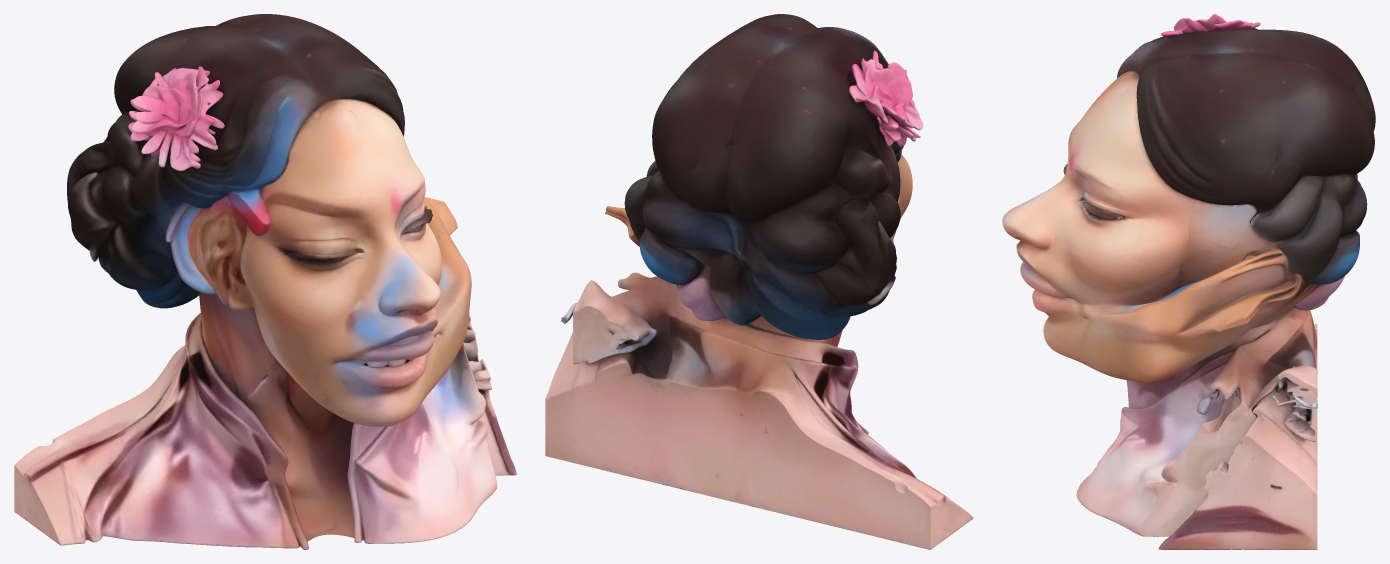
The model's file is water.glb.
3 renders of one model, left to right at view 1: azimuth 30°, elevation 25°; view 2: azimuth 150°, elevation 25°; view 3: azimuth 270°, elevation 25°, orthographic. The views are drawn at different scales.
Visible parts, largest first — view 1: model; view 2: model; view 3: model.
Boxes of the visible parts, bbox=[...] form: model: bbox=[14, 14, 516, 549]; model: bbox=[545, 14, 973, 549]; model: bbox=[1002, 14, 1375, 549].
Bounding box in the file's own units: 1.56 × 1.65 × 1.35.
Materials: 1 (1 with a texture image).
